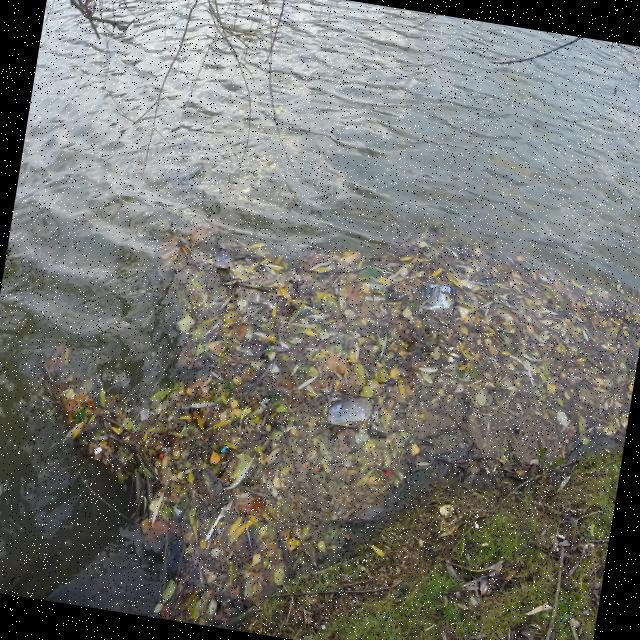Clear plastic bottle: (327, 398, 372, 425), (215, 249, 230, 268)
Plastic film: (420, 286, 456, 310)
